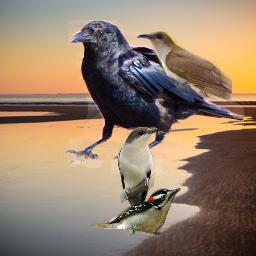Crow: (66, 20, 244, 176)
Cuckoo: (134, 31, 232, 103), (118, 127, 161, 230)
Woodpecker: (91, 186, 181, 237)
